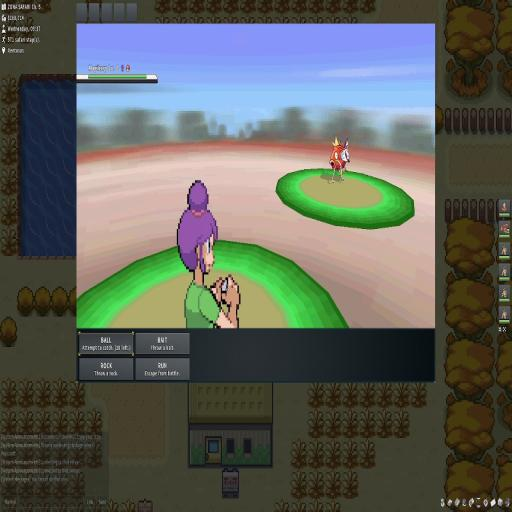FIGHTBAR: (78, 330, 191, 381)
MAGIKARP: (330, 136, 351, 182)
